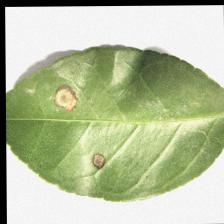canker: (45, 69, 118, 172)
